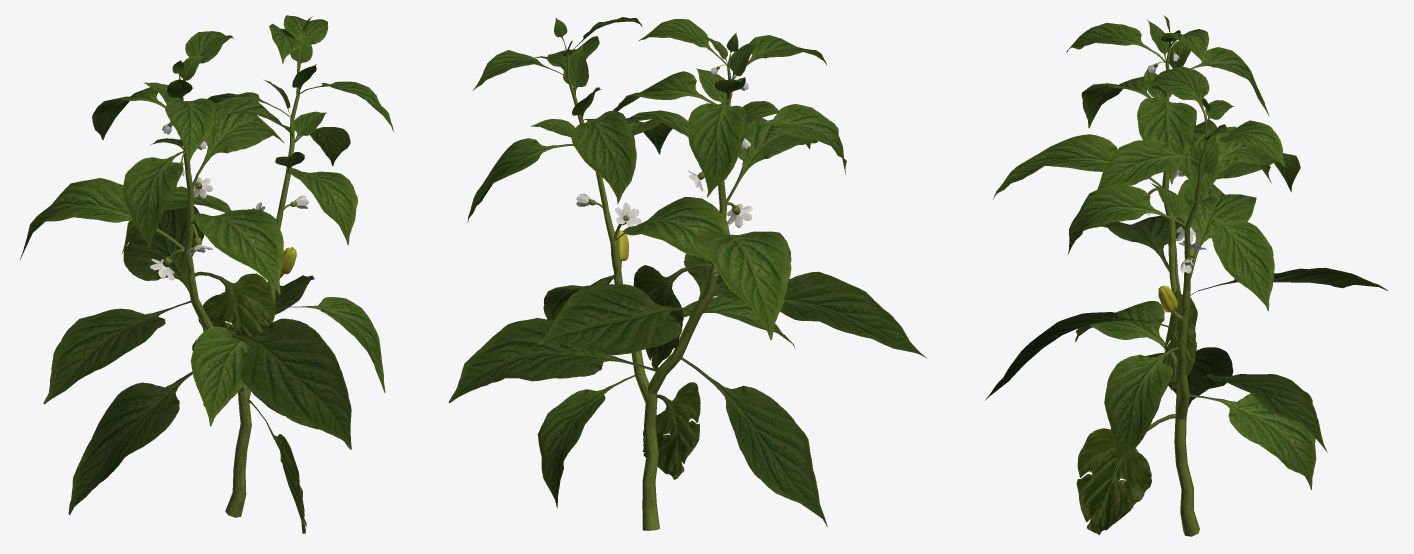
3 views of the same model, side by side, from view 1: azimuth 30°, elevation 25°; view 2: azimuth 150°, elevation 25°; view 3: azimuth 270°, elevation 25° (orthographic). The views are drawn at different scales.
Visible parts, largest first — view 1: VG07_9; view 2: VG07_9; view 3: VG07_9.
Part boxes in pixels (x1,y1,x2,y2): VG07_9: (20,15,393,533); VG07_9: (448,17,926,530); VG07_9: (984,15,1387,536).
Size of the model in its own units: 0.5249 by 0.6171 by 0.4926.
8 materials, 8 textured.
